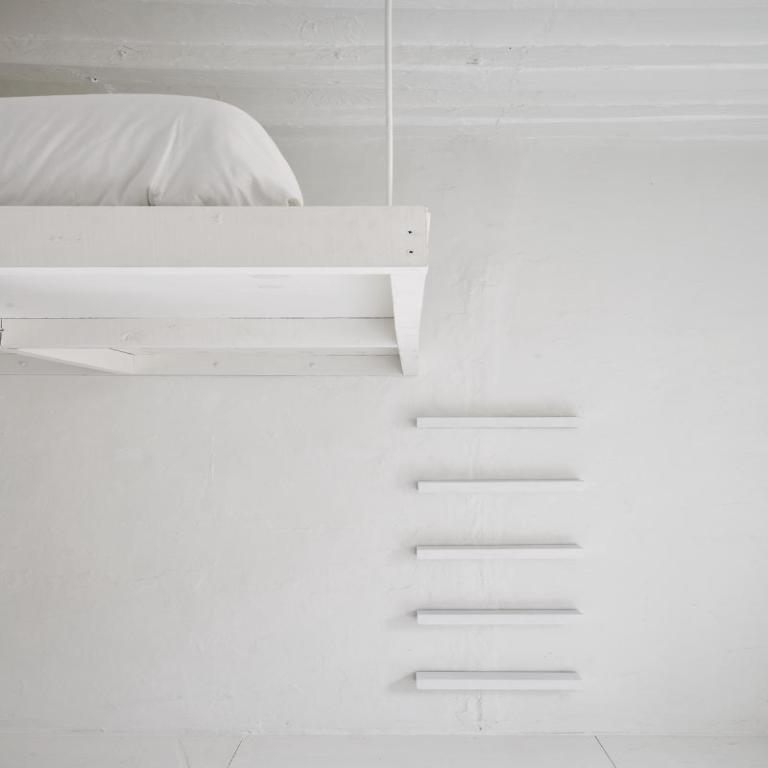white-walls: (449, 162, 742, 712)
